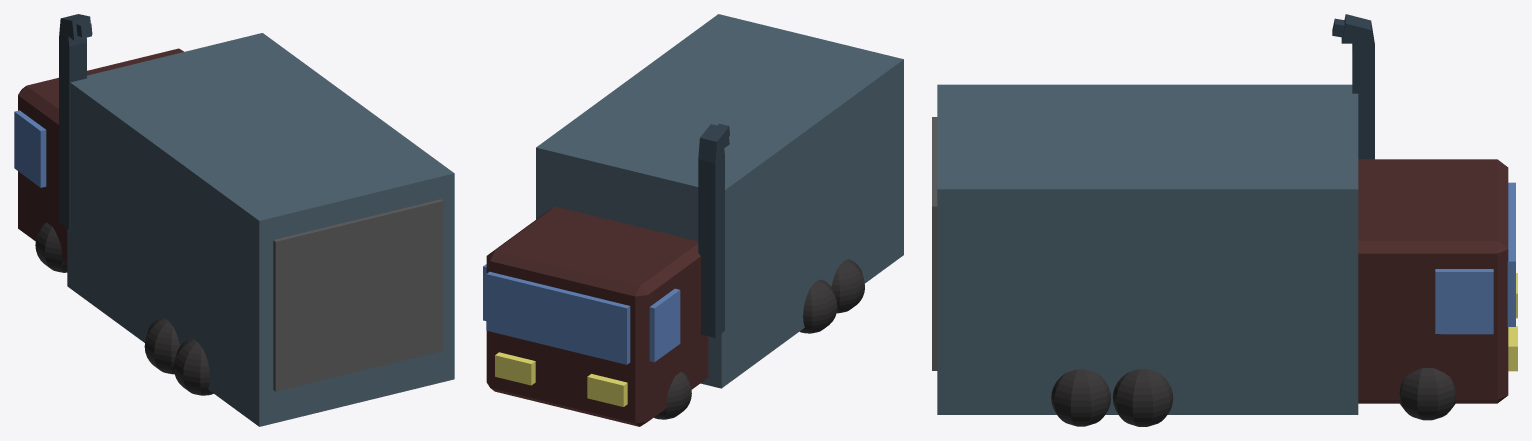
File: car3.fbx
3 renders of one model, left to right at view 1: azimuth 30°, elevation 25°; view 2: azimuth 150°, elevation 25°; view 3: azimuth 270°, elevation 25°, orthographic. The views are drawn at different scales.
Parts seen in each view (by area): view 1: Cube.001, Cube.006, Cube.002, Cube.005, Cube.003, Sphere.002, Sphere.001, Sphere; view 2: Cube.001, Cube.002, Cube, Cube.005, Cube.003, Sphere.001, Sphere.002, Cube.007, Cube.008, Sphere; view 3: Cube.001, Cube.002, Cube.004, Cube.005, Sphere.003, Sphere.004, Sphere.005, Cube.006, Cube.
Boxes of the visible parts, <box> form: Cube.001: <box>67,33,454,426</box>; Cube.006: <box>273,199,443,391</box>; Cube.002: <box>18,48,183,264</box>; Cube.005: <box>59,14,92,229</box>; Cube.003: <box>14,110,46,187</box>; Sphere.002: <box>174,339,213,395</box>; Sphere.001: <box>144,317,179,374</box>; Sphere: <box>35,222,67,272</box>; Cube.001: <box>536,14,903,388</box>; Cube.002: <box>486,206,708,426</box>; Cube: <box>486,271,630,364</box>; Cube.005: <box>698,123,729,337</box>; Cube.003: <box>649,288,680,362</box>; Sphere.001: <box>799,279,837,333</box>; Sphere.002: <box>831,259,864,313</box>; Cube.007: <box>495,352,535,385</box>; Cube.008: <box>587,374,627,406</box>; Sphere: <box>654,372,691,419</box>; Cube.001: <box>937,84,1358,414</box>; Cube.002: <box>1358,159,1508,403</box>; Cube.004: <box>1435,269,1493,334</box>; Cube.005: <box>1332,14,1374,159</box>; Sphere.003: <box>1112,369,1173,426</box>; Sphere.004: <box>1051,369,1110,426</box>; Sphere.005: <box>1399,368,1455,420</box>; Cube.006: <box>932,117,937,370</box>; Cube: <box>1507,182,1515,326</box>.
Size of the model in its own units: 272 by 320 by 546.
